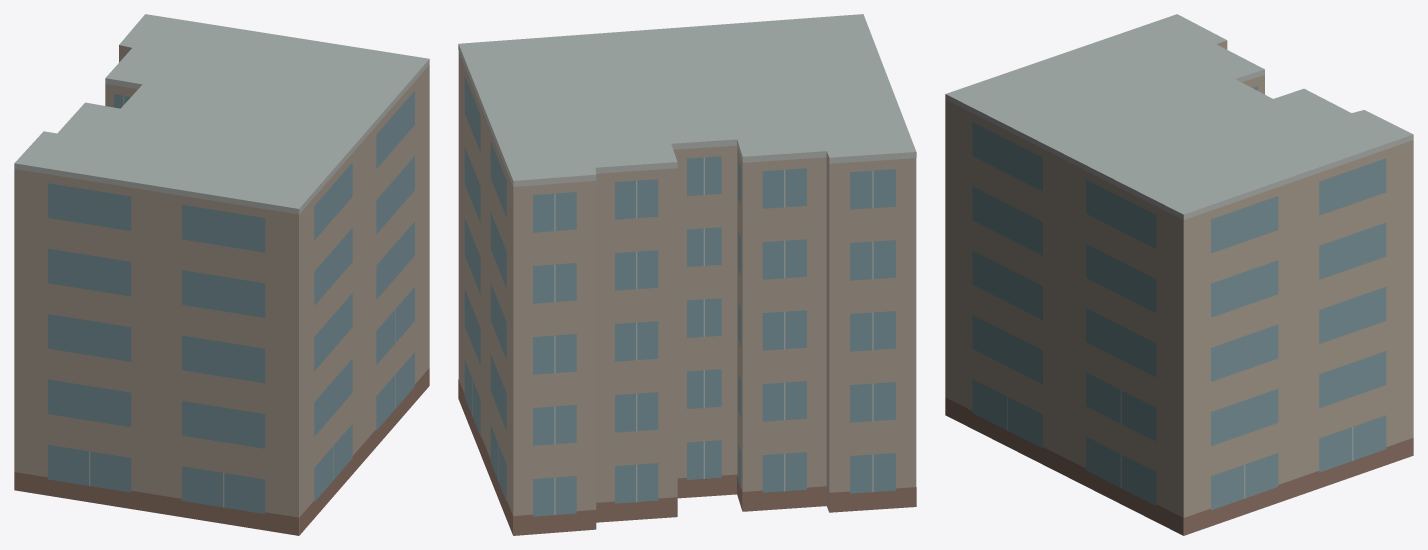
File: survey-upis-32840480.glb
3 views of the same model, side by side, from view 1: azimuth 30°, elevation 25°; view 2: azimuth 150°, elevation 25°; view 3: azimuth 270°, elevation 25° (orthographic). The views are drawn at different scales.
Parts seen in each view (by area): view 1: survey-upis-32840480.tmp; view 2: survey-upis-32840480.tmp; view 3: survey-upis-32840480.tmp.
Part boxes in pixels (box(x1,y1,x2,y2)): survey-upis-32840480.tmp: box(14, 14, 429, 535); survey-upis-32840480.tmp: box(458, 14, 916, 535); survey-upis-32840480.tmp: box(945, 14, 1413, 535).
Size of the model in its own units: 19.04 by 14.2 by 18.76.
